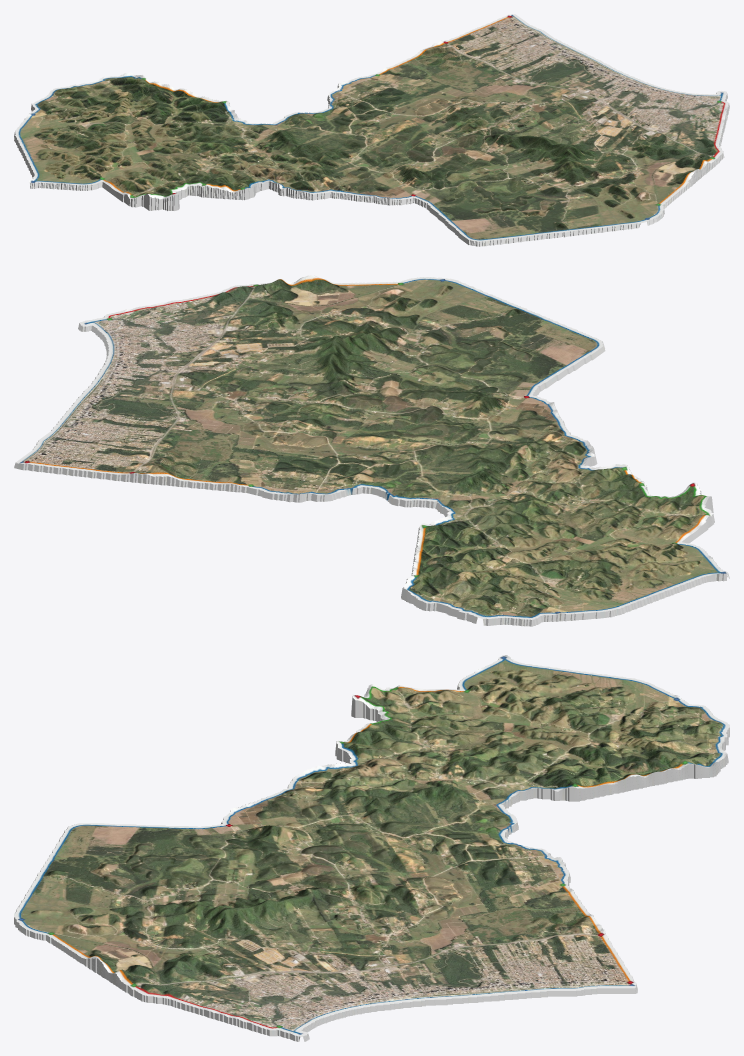
The model's file is balneario_picarras.glb.
3 renders of one model, top to bottom at view 1: azimuth 30°, elevation 25°; view 2: azimuth 150°, elevation 25°; view 3: azimuth 270°, elevation 25°, orthographic. The views are drawn at different scales.
Size of the model in its own units: 1 by 0.025 by 0.7955.
Materials: 1 (1 with a texture image).
